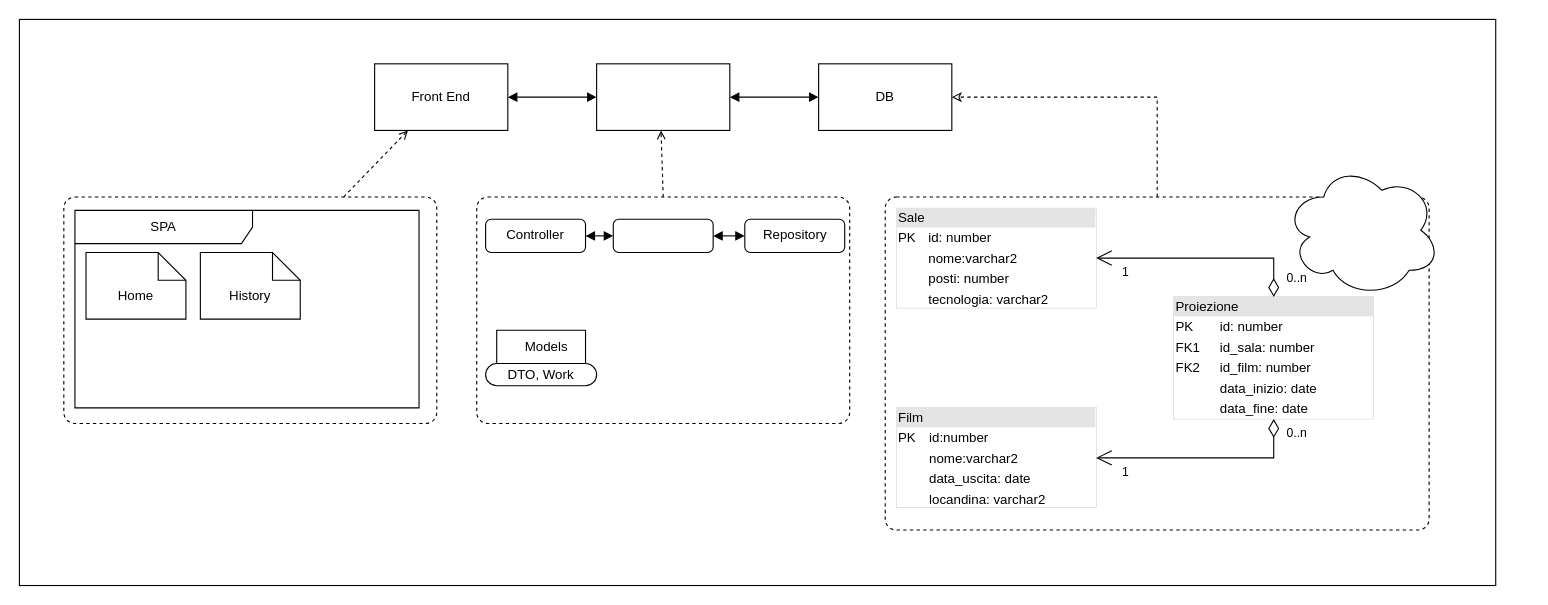
This 1548x605 diagram has some shape labels left out. Here are the shapes that lost their labels. From the top down, the centre of each, then its label:
At (x=663, y=96): "Back End".
At (x=662, y=235): "Service".
At (x=1362, y=230): "Ogni tabella corrisponderà ad un file excel".
